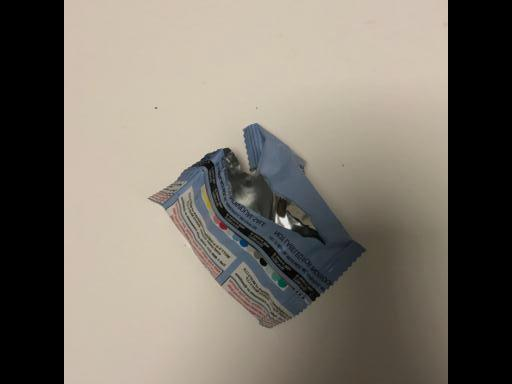trash: (146, 123, 367, 330)
